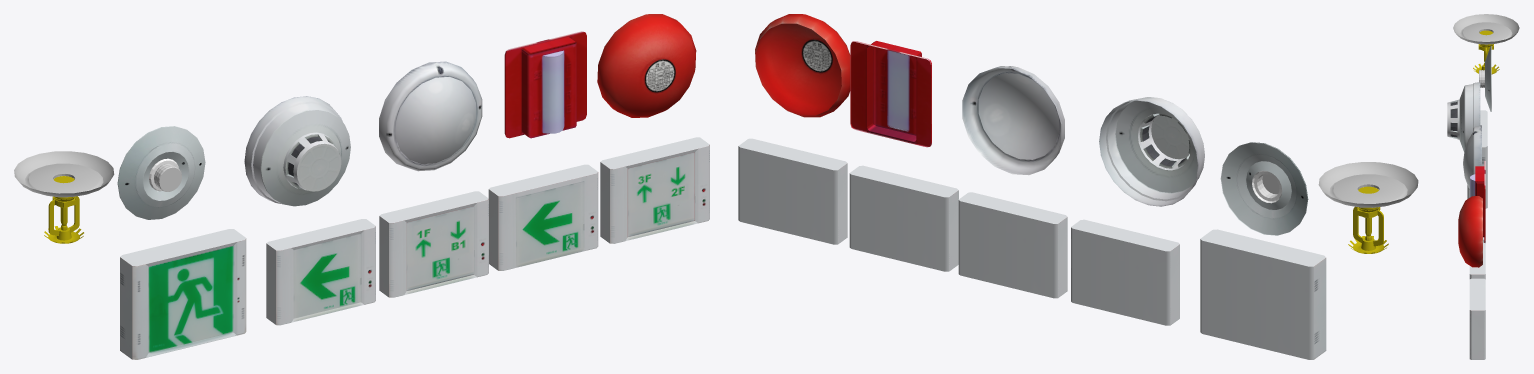
File: Hanbit_obj02.fbx
3 views of the same model, side by side, from view 1: azimuth 30°, elevation 25°; view 2: azimuth 150°, elevation 25°; view 3: azimuth 270°, elevation 25° (orthographic). The views are drawn at different scales.
Parts seen in each view (by area): view 1: pCube80, pCube82, pCube83, pCube81, pCube24, pCylinder80, pCylinder88, pCylinder74, pCube85, pCylinder79, pCylinder90, pCylinder89; view 2: pCube80, pCube81, pCube82, pCube83, pCube24, pCylinder80, pCylinder88, pCylinder74, pCube85, pCylinder79, pCylinder90; view 3: pCylinder90, pCylinder80, pCylinder74, pCube83, pCylinder88, pCube85, pCube80, pCylinder79, pCube82, pCylinder89.
Boxes of the visible parts, <box> form: pCube80: <box>120,229,246,359</box>; pCube82: <box>488,164,598,270</box>; pCube83: <box>600,137,709,243</box>; pCube81: <box>379,191,488,297</box>; pCube24: <box>266,219,375,325</box>; pCylinder80: <box>244,96,350,206</box>; pCylinder88: <box>379,61,482,171</box>; pCylinder74: <box>597,14,696,117</box>; pCube85: <box>504,31,586,138</box>; pCylinder79: <box>117,126,205,219</box>; pCylinder90: <box>14,151,114,243</box>; pCylinder89: <box>154,163,181,191</box>; pCube80: <box>1200,229,1326,359</box>; pCube81: <box>958,192,1067,298</box>; pCube82: <box>849,165,958,271</box>; pCube83: <box>738,138,847,244</box>; pCube24: <box>1071,219,1179,325</box>; pCylinder80: <box>1099,97,1204,206</box>; pCylinder88: <box>962,66,1064,175</box>; pCylinder74: <box>755,14,850,117</box>; pCube85: <box>850,41,931,147</box>; pCylinder79: <box>1220,142,1308,235</box>; pCylinder90: <box>1318,162,1418,253</box>; pCylinder90: <box>1453,14,1519,74</box>; pCylinder80: <box>1447,82,1480,151</box>; pCylinder74: <box>1458,196,1482,267</box>; pCube83: <box>1469,278,1485,359</box>; pCylinder88: <box>1463,125,1481,189</box>; pCube85: <box>1470,161,1485,242</box>; pCube80: <box>1467,110,1487,208</box>; pCylinder79: <box>1485,46,1491,111</box>; pCube82: <box>1469,242,1485,279</box>; pCylinder89: <box>1479,70,1484,87</box>.
Bounding box in the file's own units: 15.03 × 4.61 × 2.1.
